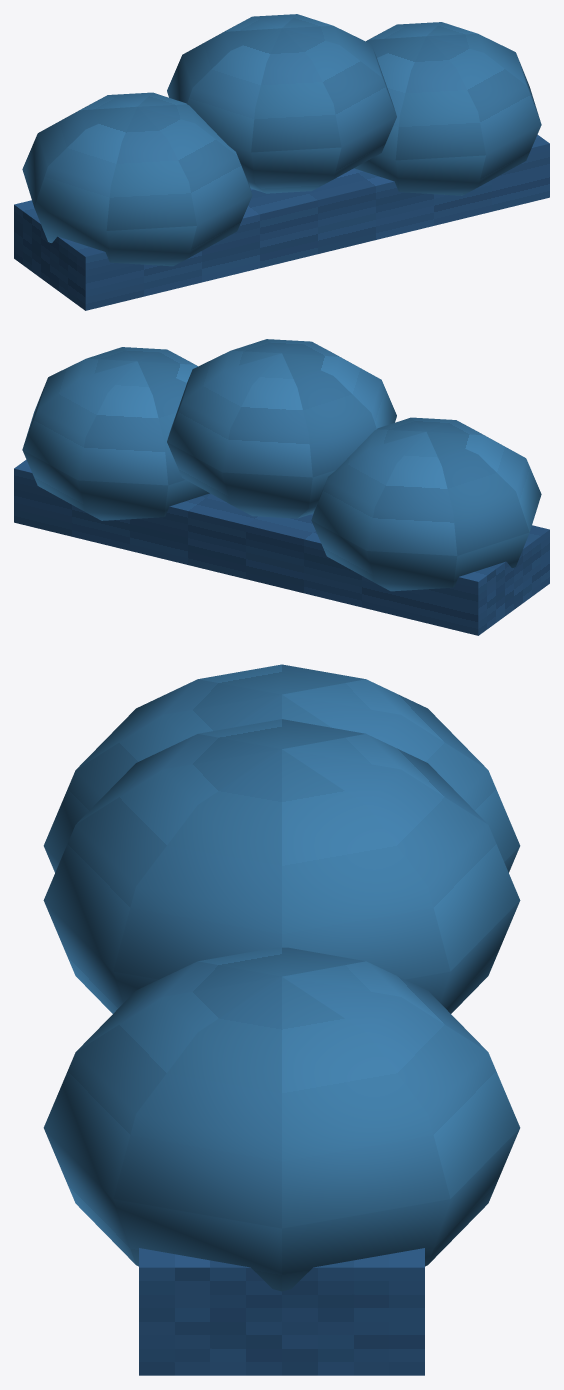
The model's file is ola.glb.
3 renders of one model, top to bottom at view 1: azimuth 30°, elevation 25°; view 2: azimuth 150°, elevation 25°; view 3: azimuth 270°, elevation 25°, orthographic. The views are drawn at different scales.
Visible parts, largest first — view 1: ola; view 2: ola; view 3: ola.
Boxes of the visible parts, x1,y1,x2,y2 form: ola: (14, 14, 549, 310); ola: (14, 339, 549, 635); ola: (43, 664, 520, 1375).
Size of the model in its own units: 0.96 by 0.37 by 0.4.
2 materials, 2 textured.
